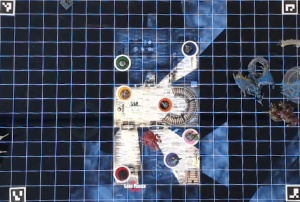green: (113, 51, 132, 70)
orange: (156, 95, 174, 112)
pink: (180, 126, 201, 146)
red: (113, 163, 133, 181)
violet: (161, 150, 184, 168), (179, 39, 199, 57)
yellow: (115, 82, 132, 102)
